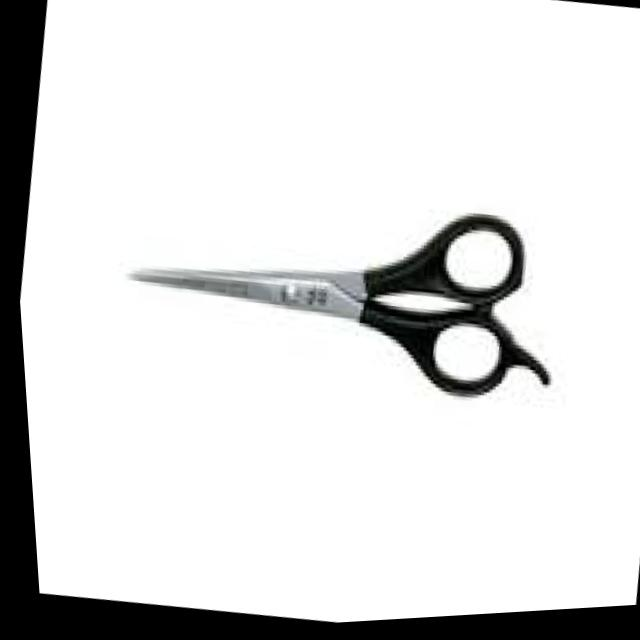scissor: (106, 162, 573, 432)
